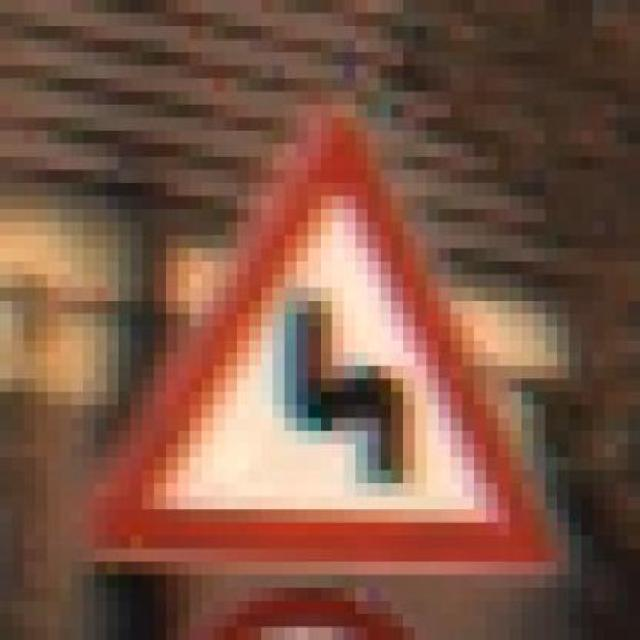Left Zig Zag Traffic: (83, 78, 569, 600)
